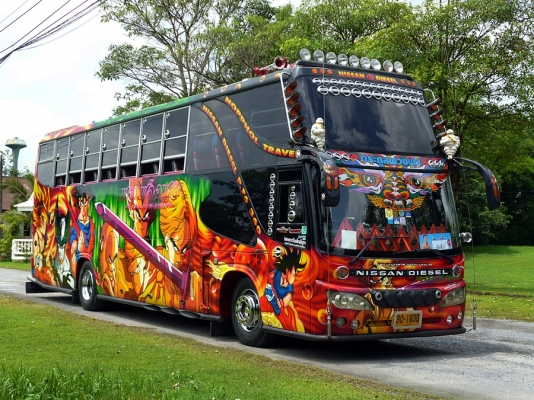bus: (27, 60, 467, 345)
